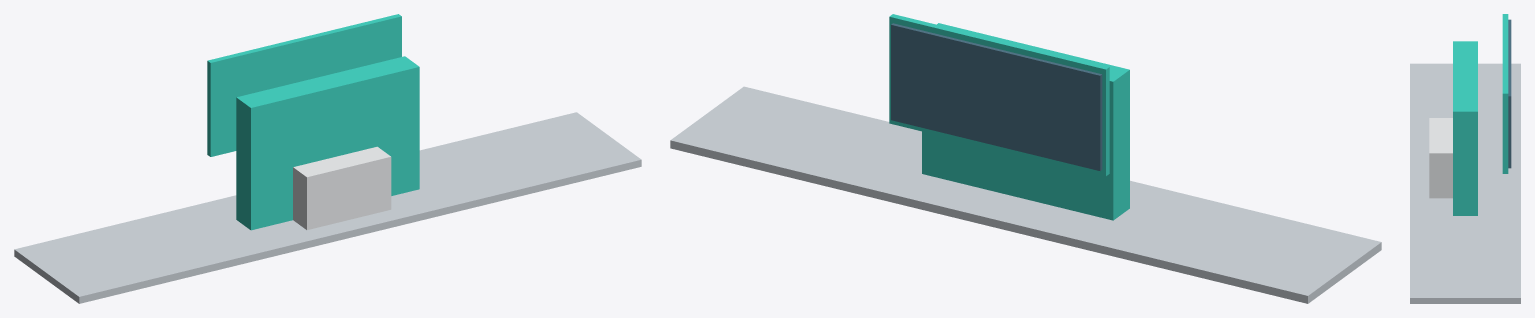
3 views of the same model, side by side, from view 1: azimuth 30°, elevation 25°; view 2: azimuth 150°, elevation 25°; view 3: azimuth 270°, elevation 25° (orthographic). The views are drawn at different scales.
Visible parts, largest first — view 1: Exhibition Booth Concept; view 2: Exhibition Booth Concept; view 3: Exhibition Booth Concept.
Part boxes in pixels (bbox=[...]): Exhibition Booth Concept: bbox=[14, 14, 641, 303]; Exhibition Booth Concept: bbox=[670, 14, 1381, 303]; Exhibition Booth Concept: bbox=[1410, 14, 1520, 303].
Size of the model in its own units: 10 by 2.65 by 2.
